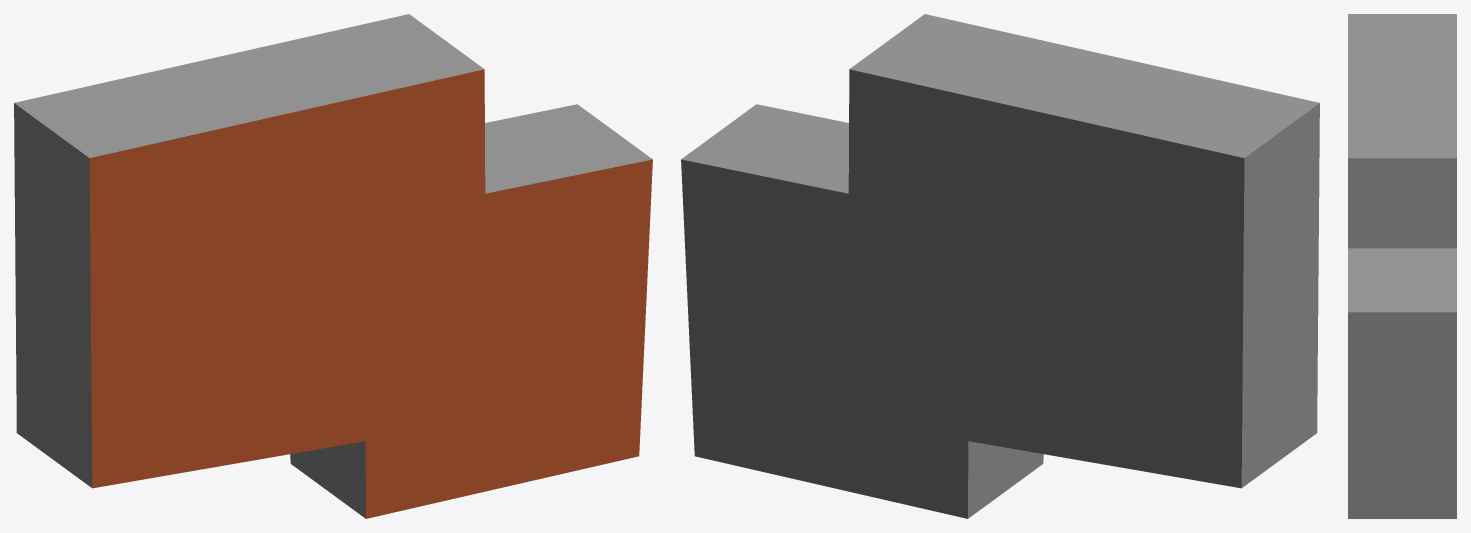
Rendered from construction_4817_assumed_A_Casa_h6m.obj.
3 renders of one model, left to right at view 1: azimuth 30°, elevation 25°; view 2: azimuth 150°, elevation 25°; view 3: azimuth 270°, elevation 25°, orthographic. The views are drawn at different scales.
Visible parts, largest first — view 1: construction_4817_assumed_A_Casa; view 2: construction_4817_assumed_A_Casa; view 3: construction_4817_assumed_A_Casa.
Boxes of the visible parts, x1,y1,x2,y2 form: construction_4817_assumed_A_Casa: [14, 14, 652, 518]; construction_4817_assumed_A_Casa: [681, 14, 1319, 518]; construction_4817_assumed_A_Casa: [1348, 14, 1456, 518].
Size of the model in its own units: 25.84 by 18.95 by 6.
